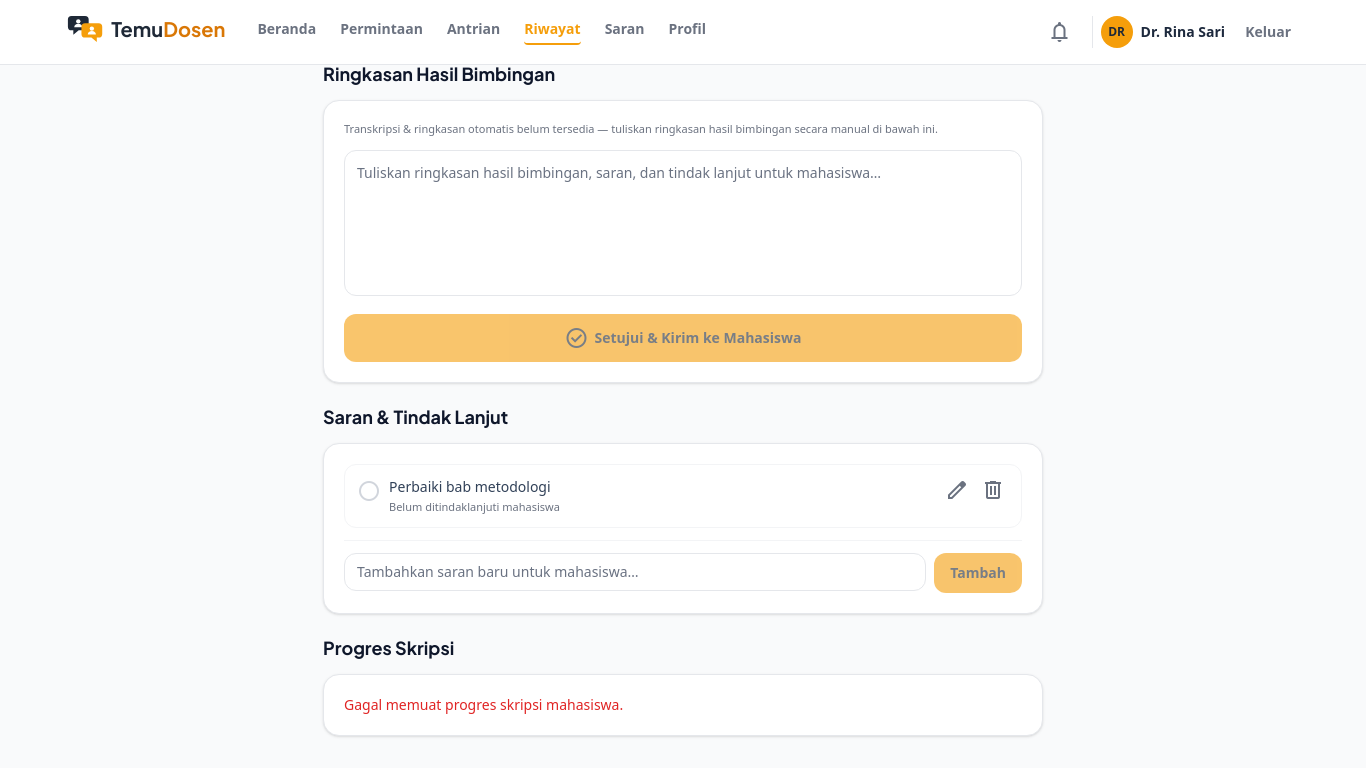
Test case: LecturerSessionDetail › lists existing advice items and lets the lecturer add a new one (ADVICE-01)
The image size is (1366, 768).
(page scrolled)
Expected: the text "Perbaiki bab metodologi" is shown, [389,476,551,496]
Step 1. Type "Perbanyak kutipan jurnal terbaru" into the field with placeholder "Tambahkan saran baru untuk mahasiswa…" → (635, 572), box [344,553,926,591]
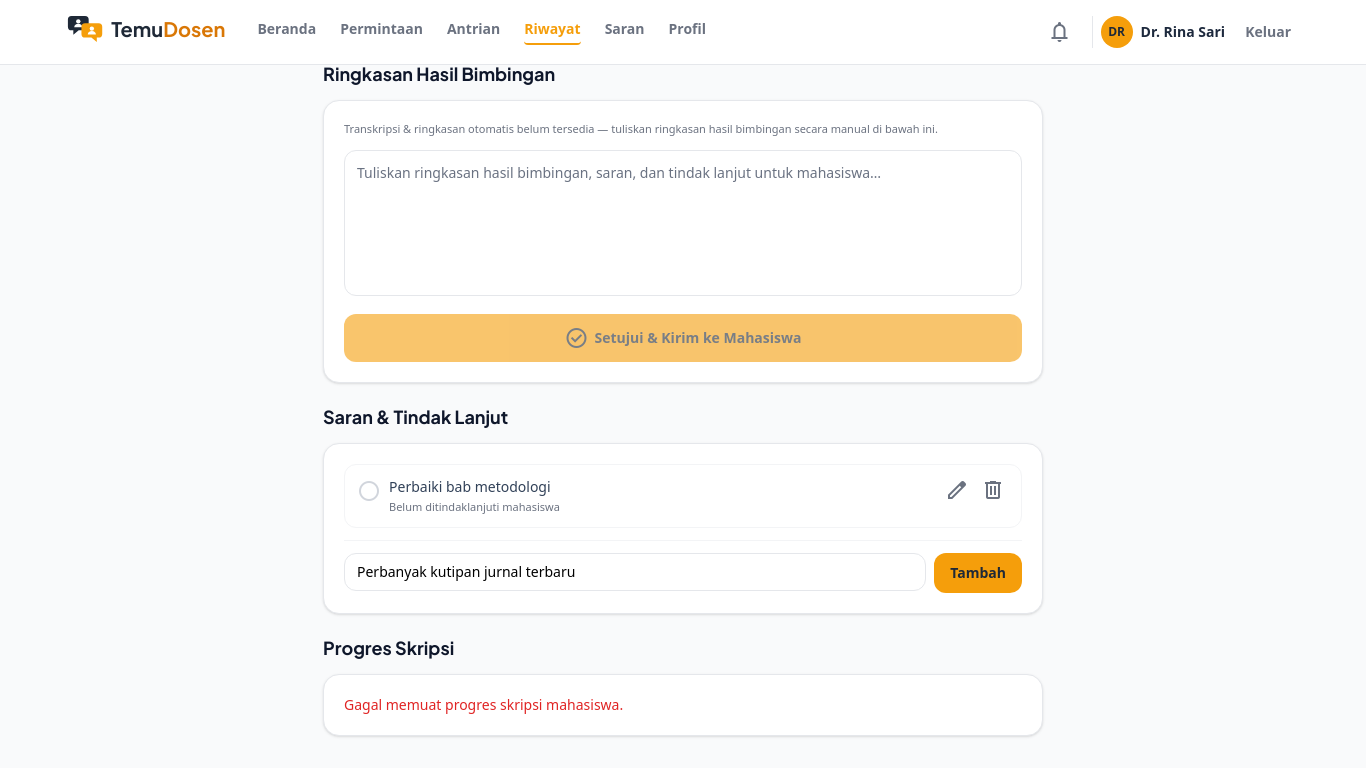
Step 2. Click the button "Tambah" → (978, 573), box [934,553,1022,593]
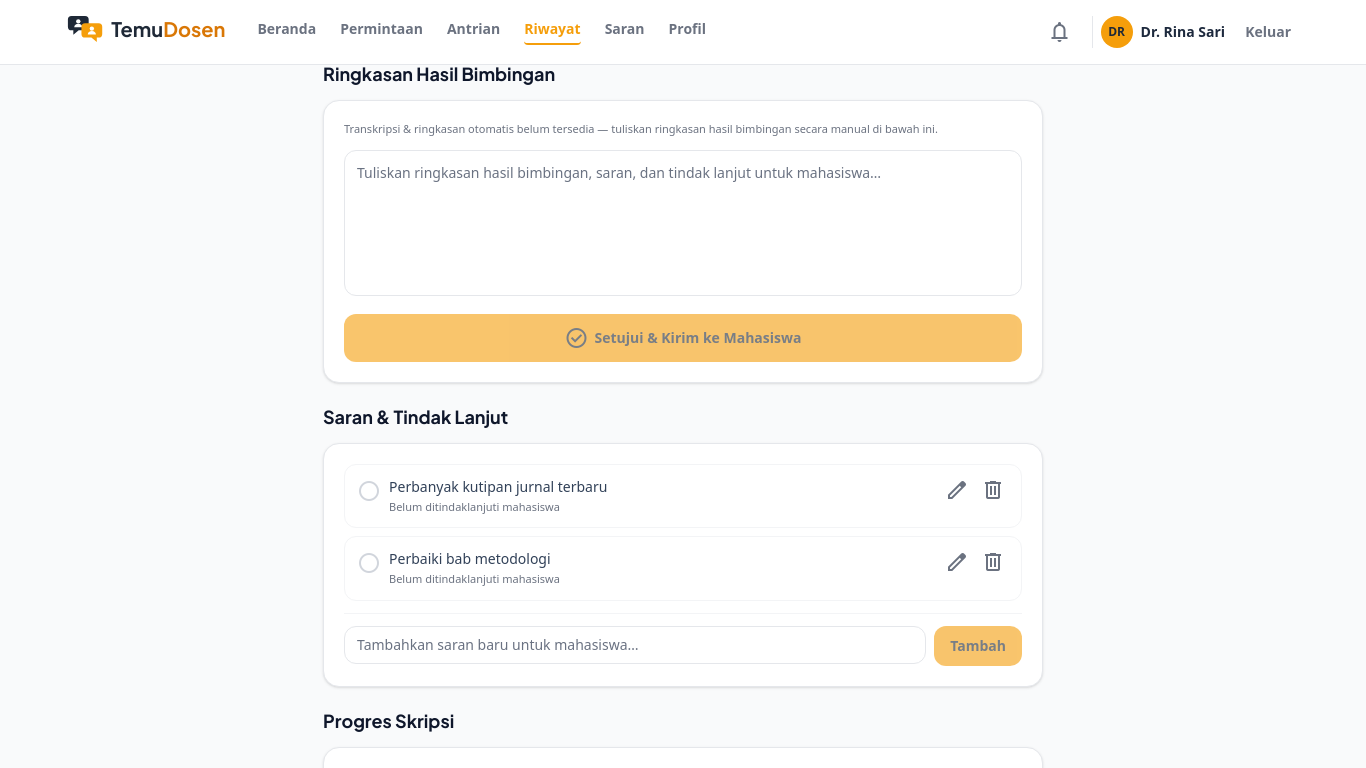
Now the text "Perbanyak kutipan jurnal terbaru" is shown, box [389,476,607,496]
